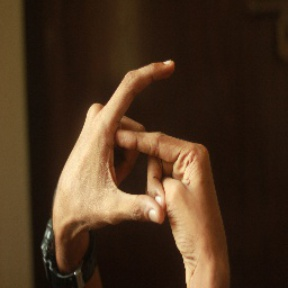E: (93, 52, 194, 224)
